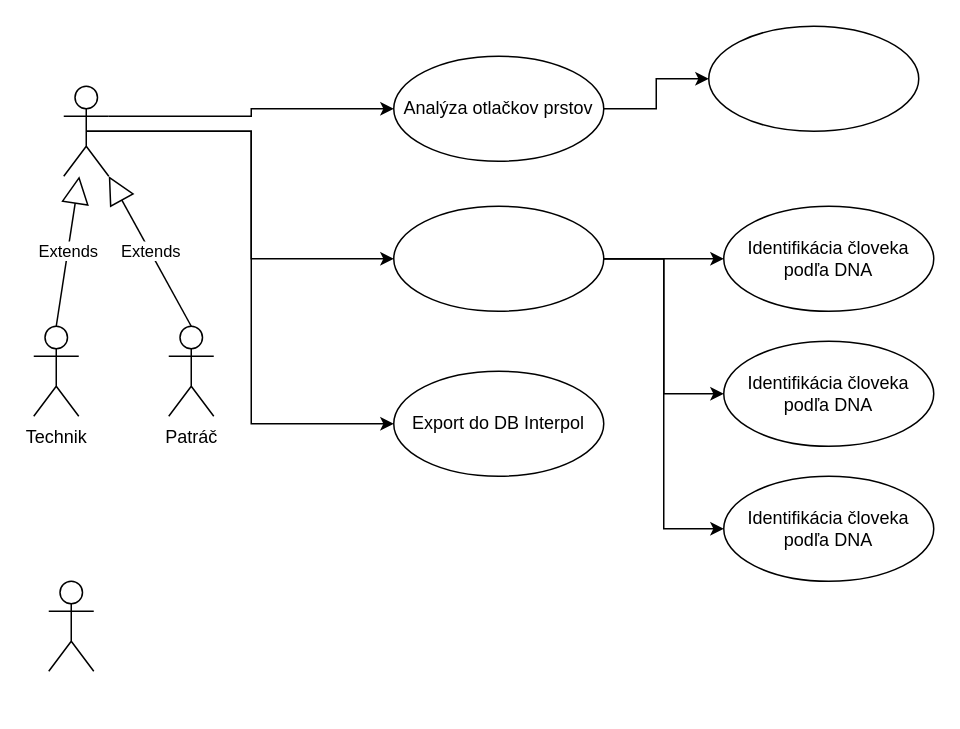
This 960x729 diagram has some shape labels left out. The shapes that lost their labels are listed below. From the top down, each one's box as (x1, y1, x2, y2) in pixels, then its label:
(707, 25, 919, 131): Import otlačkov prstov
(62, 85, 109, 176): Policajt
(392, 205, 604, 311): Identifikácia človeka
(47, 580, 94, 671): Laborant
